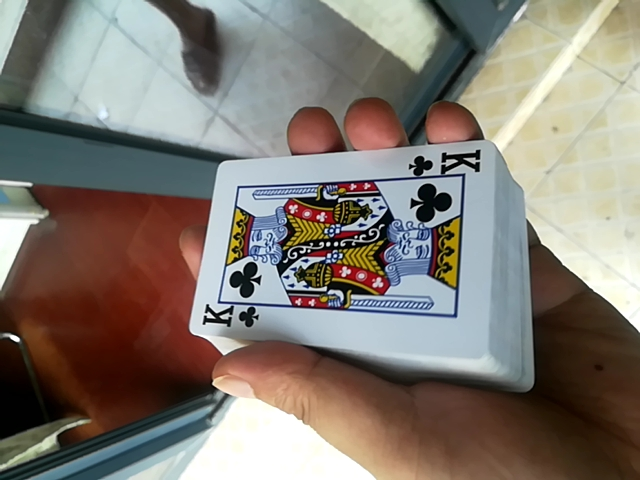mh k: (163, 123, 493, 366)
